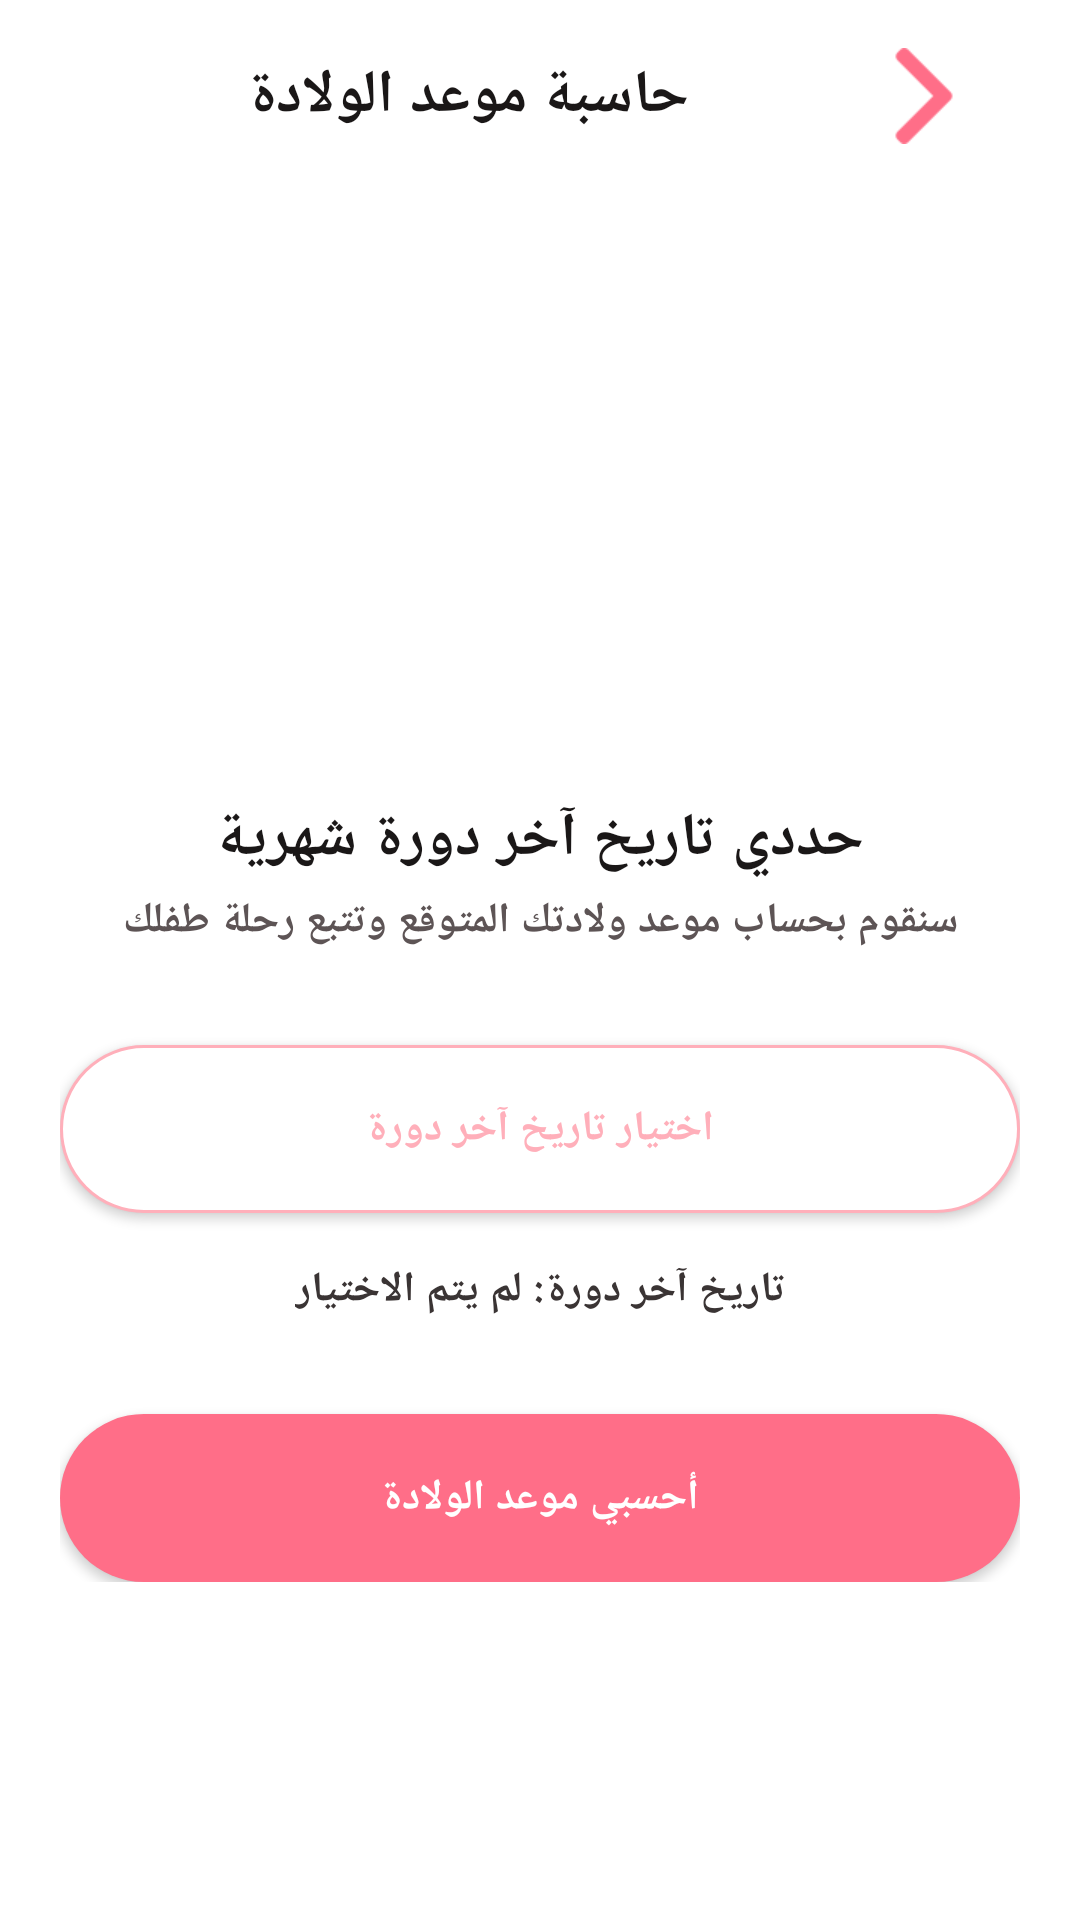

Icon bounding boxes for this 1080w x 1920h phone screenshot, format rect(x1, y1, x2, y2):
rightarrow: rect(895, 48, 953, 144)
